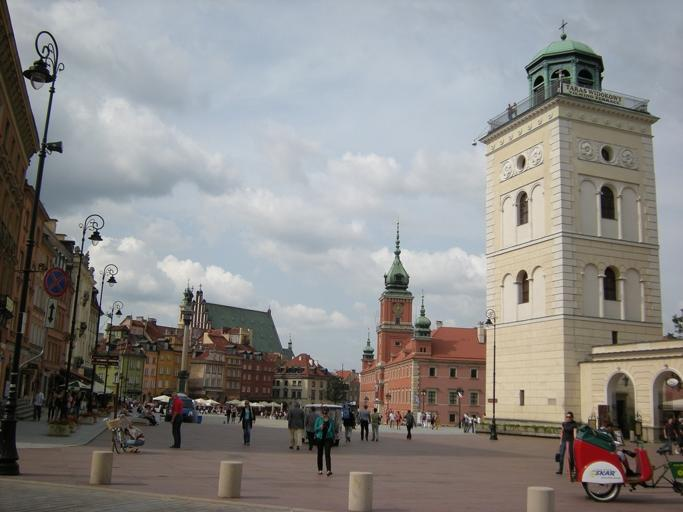non-vehicle: (108, 415, 127, 455), (461, 420, 473, 431)
